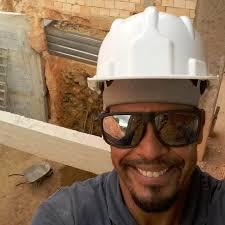helmet: (87, 5, 220, 81)
